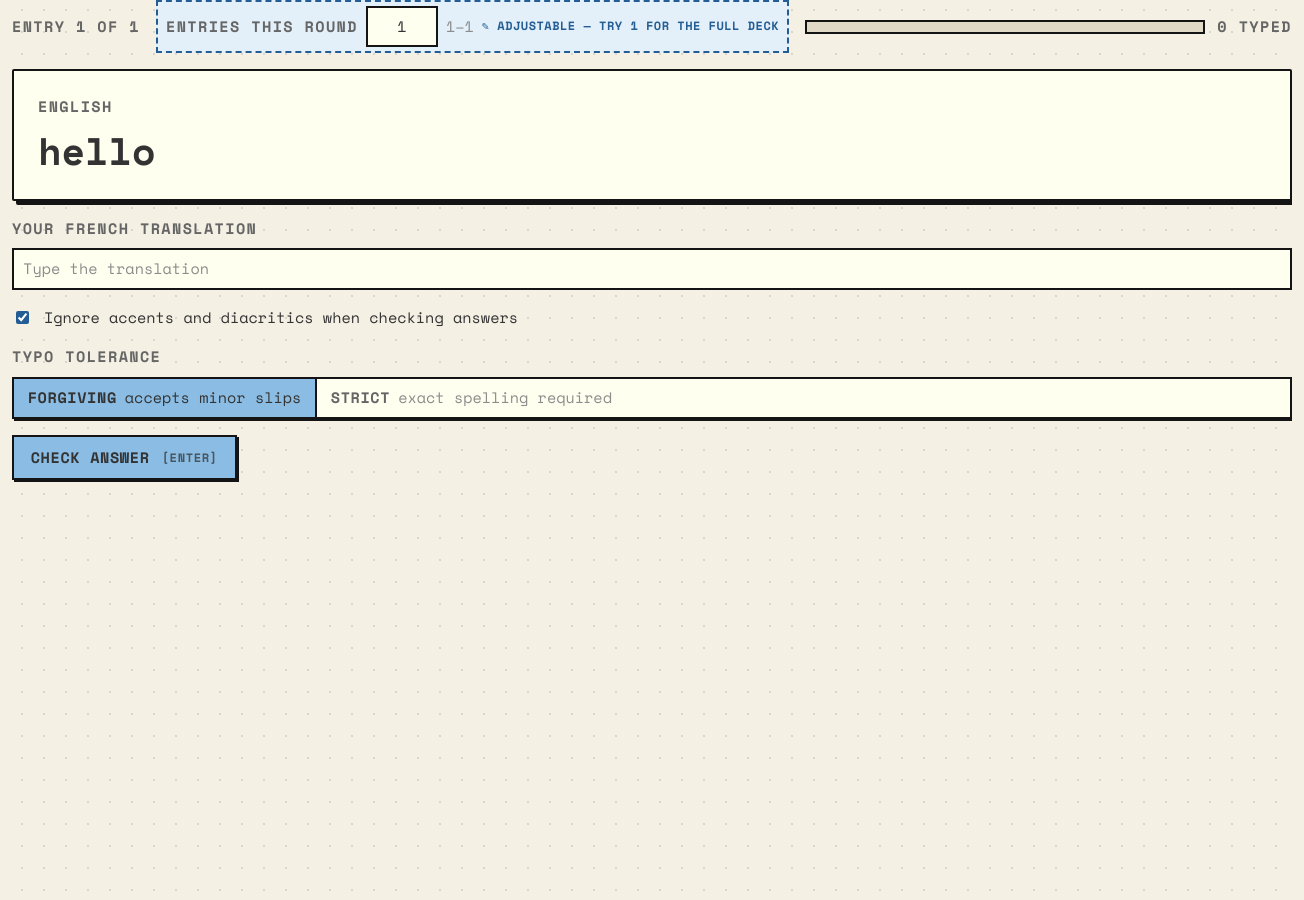
Test: single-entry decks › typing finishes a one-entry round with a correct answer
Expected: the text with class "flashcard-word" reads "hello", [38,122,156,179]
Type "bonjour" into the field.
click(652, 269); type("bonjour")  # box [12,248,1292,290]
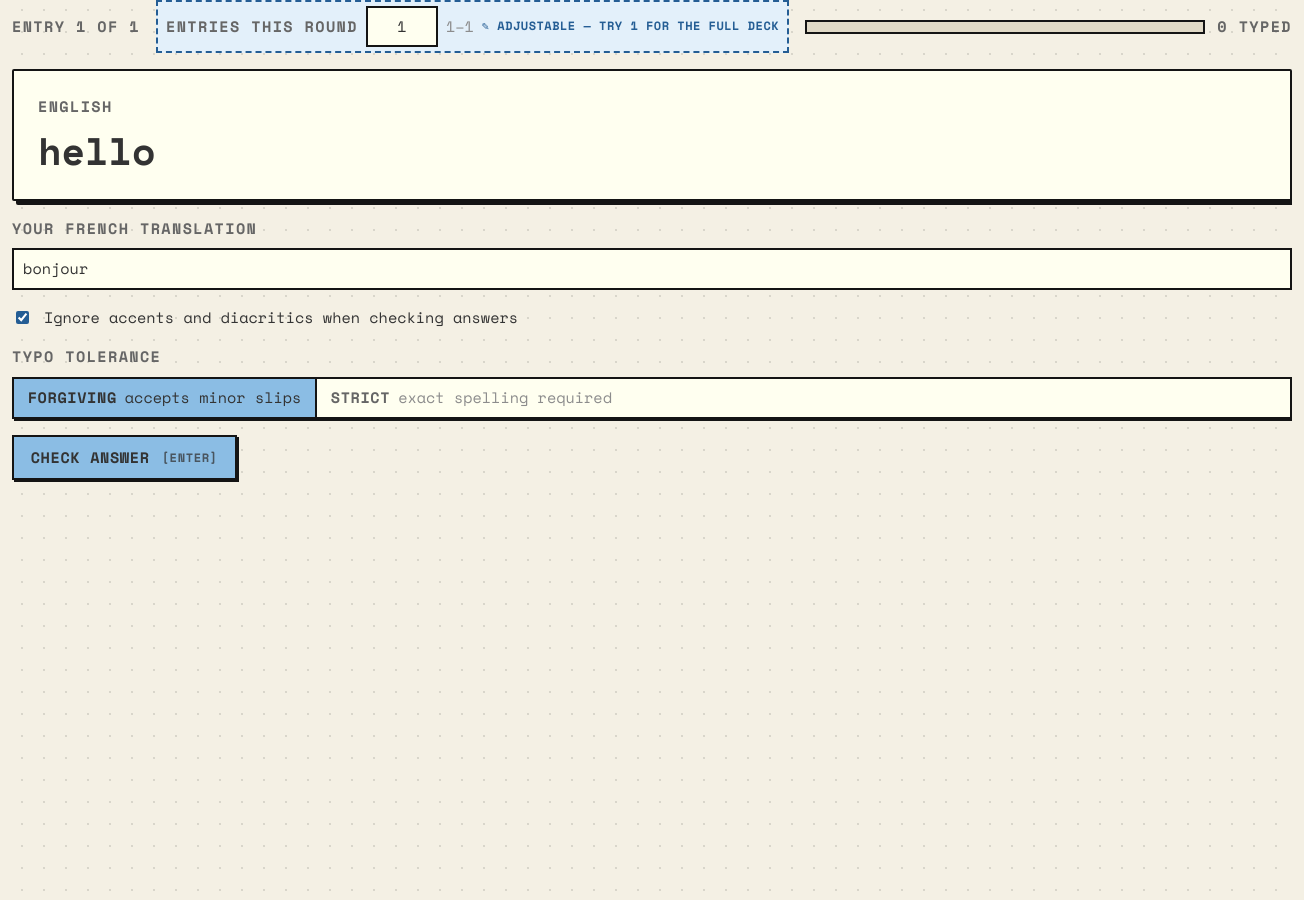
Click the button "Check answer [Enter]".
click(124, 458)  # box [12,435,237,480]
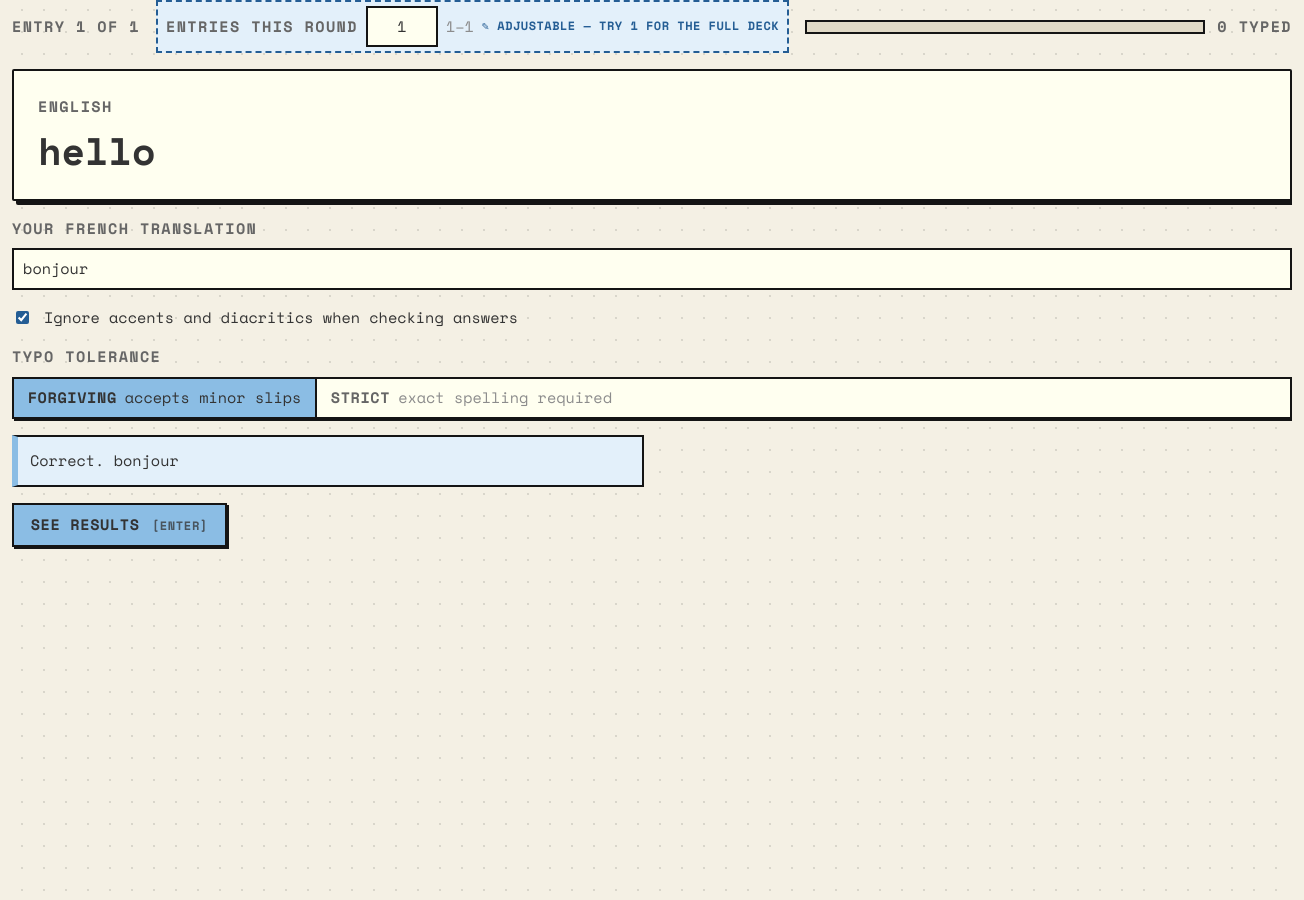
Expected: the text "Correct. bonjour" is shown, [12,435,644,487]
